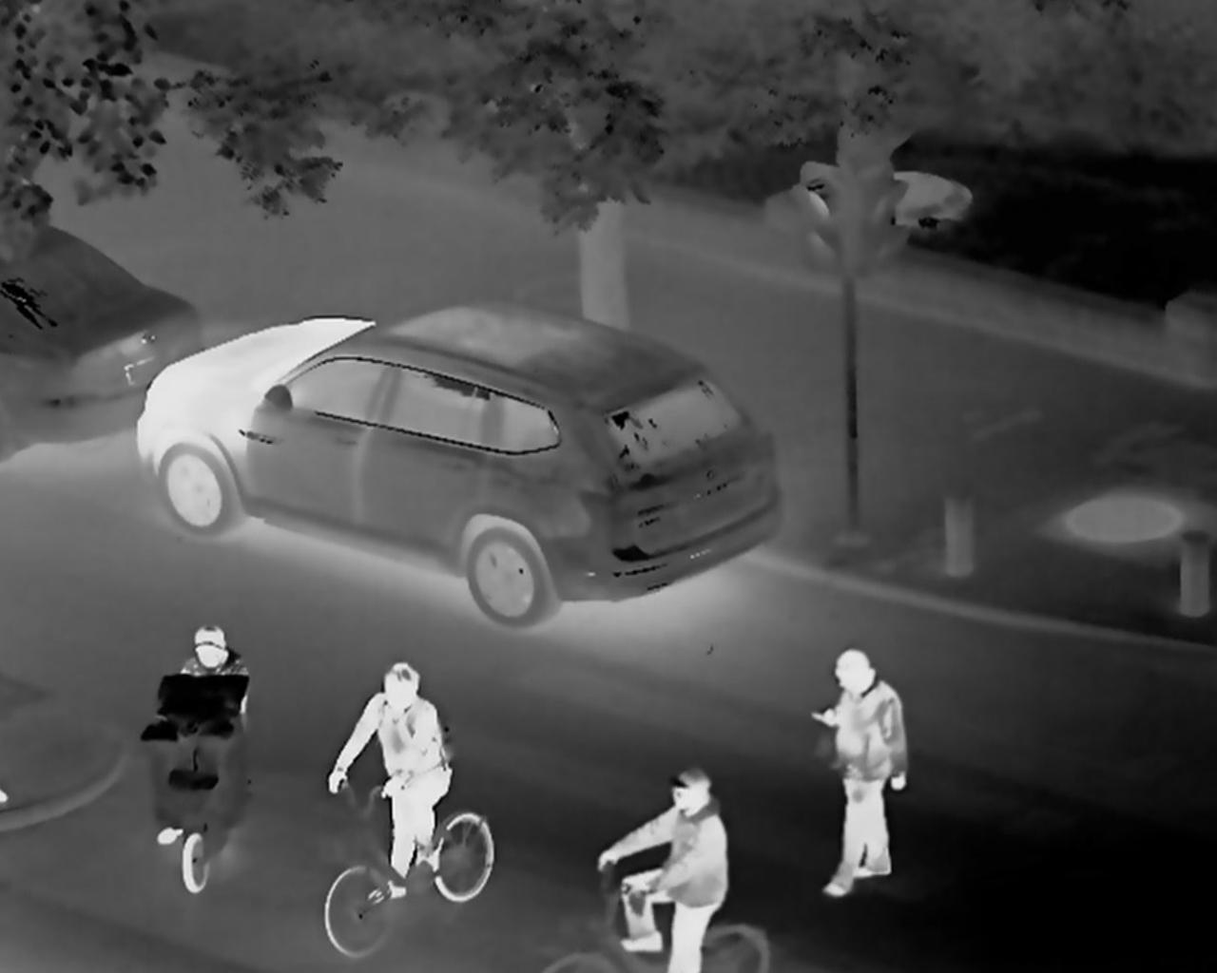person: (331, 630, 480, 920), (814, 632, 929, 887), (617, 744, 708, 957), (179, 602, 254, 711)
